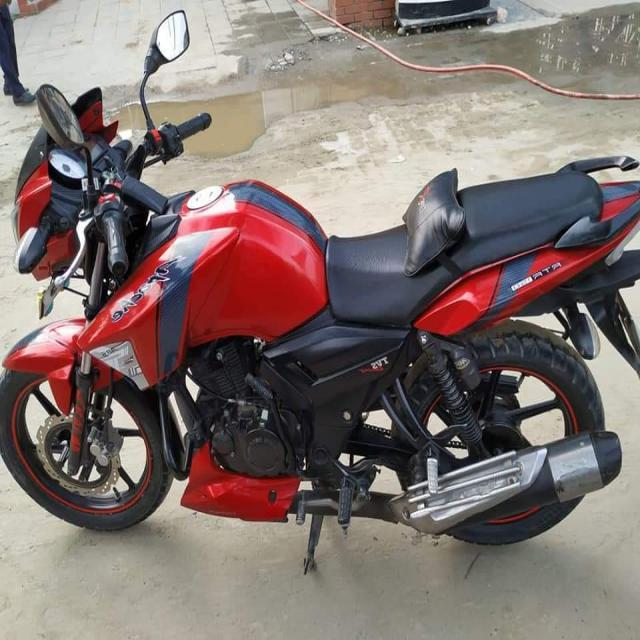Motorbike: (1, 25, 640, 583)
